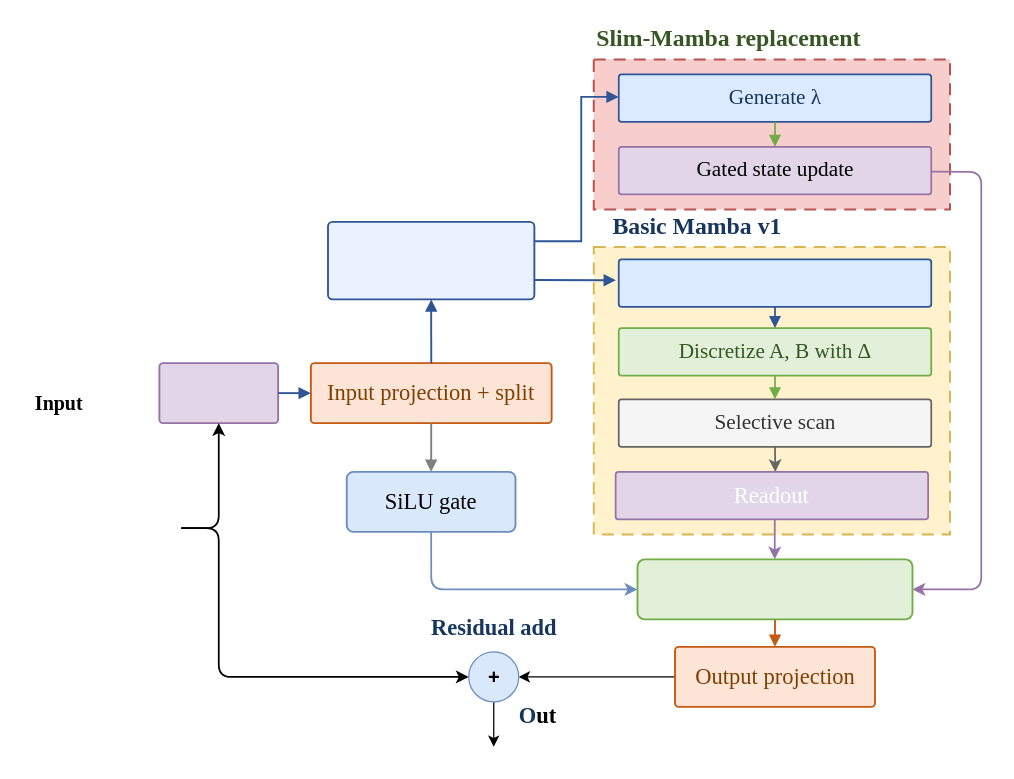
The diagram is 1014 pixels wide and 779 high, and some of its shapes have lost their labels. Each missing label, with the centre of its shape:
"Elementwise gate" belongs at point 774,589.
"Generate Δ, B, C" belongs at point 774,282.
"RMSNorm" belongs at point 218,393.
"State branch preprocessing" belongs at point 430,260.
